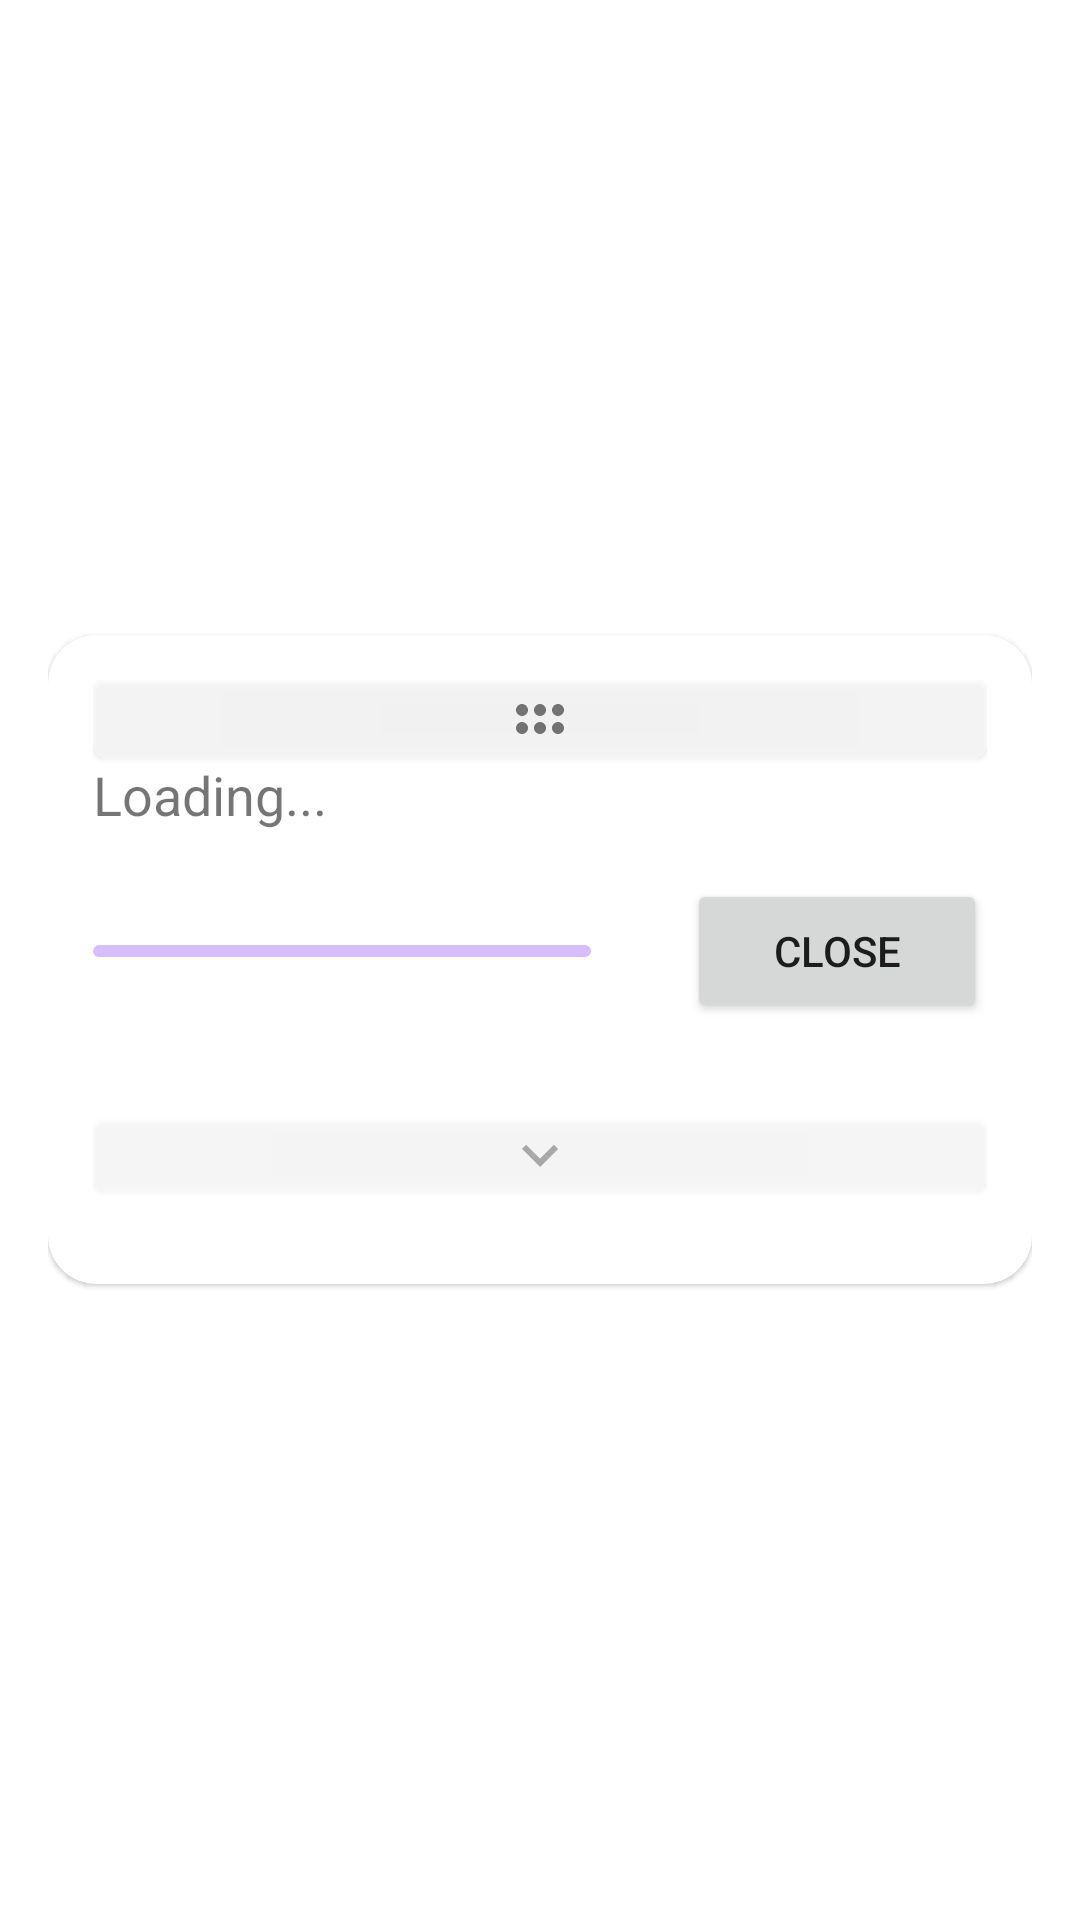

Icon bounding boxes for this 1080 x 1920 phone screenshot, format (x1, y1, x2, y2):
arrow icon: (522, 1145, 558, 1167)
drag icon: (516, 704, 564, 734)
